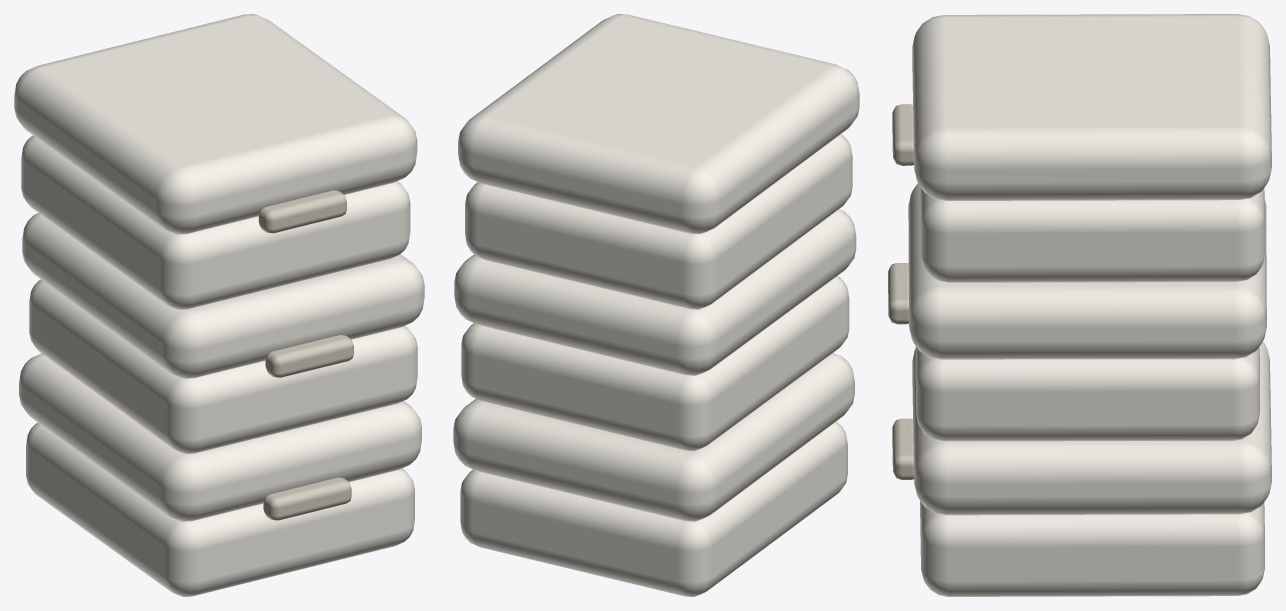
The model's file is SM_BurgerBoxStack3.glb.
3 views of the same model, side by side, from view 1: azimuth 30°, elevation 25°; view 2: azimuth 150°, elevation 25°; view 3: azimuth 270°, elevation 25° (orthographic). The views are drawn at different scales.
Parts seen in each view (by area): view 1: SM_BurgerBoxStack3; view 2: SM_BurgerBoxStack3; view 3: SM_BurgerBoxStack3.
Part boxes in pixels (x1=…): SM_BurgerBoxStack3: x1=14, y1=14, x2=424, y2=596; SM_BurgerBoxStack3: x1=453, y1=14, x2=859, y2=596; SM_BurgerBoxStack3: x1=888, y1=14, x2=1271, y2=596.
Bounding box in the file's own units: 0.1447 × 0.224 × 0.1674.
Materials: 1 (1 with a texture image).
